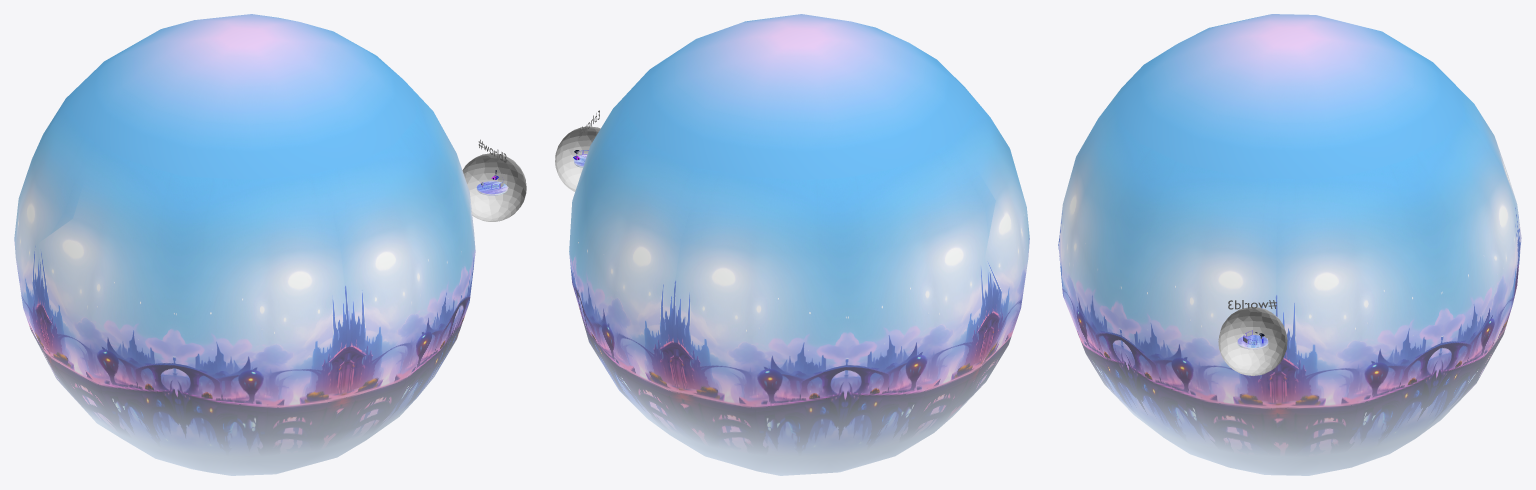
3 renders of one model, left to right at view 1: azimuth 30°, elevation 25°; view 2: azimuth 150°, elevation 25°; view 3: azimuth 270°, elevation 25°, orthographic.
Visible parts, largest first — view 1: environment, Sphere.001; view 2: environment, Sphere.001; view 3: environment, Sphere.001.
Part boxes in pixels (x1=…): environment: x1=14, y1=14, x2=475, y2=475; Sphere.001: x1=462, y1=153, x2=526, y2=221; environment: x1=569, y1=14, x2=1029, y2=475; Sphere.001: x1=555, y1=126, x2=600, y2=191; environment: x1=1058, y1=14, x2=1521, y2=475; Sphere.001: x1=1218, y1=307, x2=1287, y2=375.
Size of the model in its own units: 342 by 298 by 298.
Materials: 24 (9 with a texture image).
